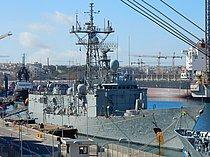MIL_Ship: (27, 0, 207, 150)
